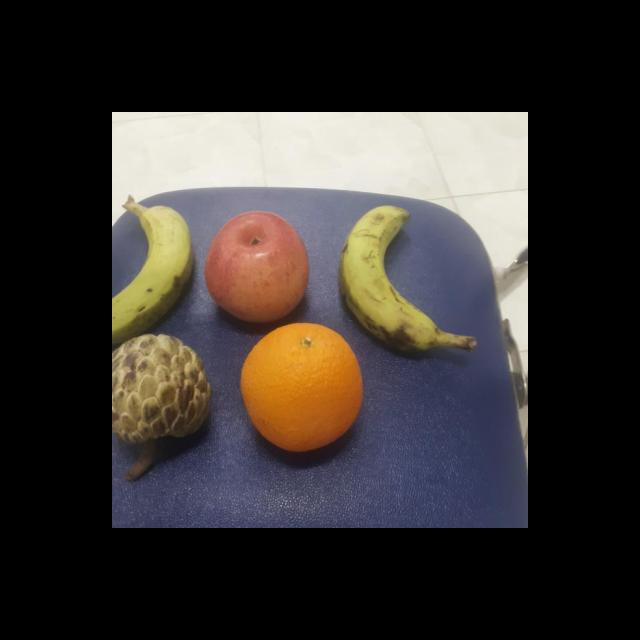Sakya fruit: (112, 329, 215, 447)
apple: (201, 208, 312, 325)
banana: (335, 203, 443, 353), (112, 198, 196, 346)
orange: (236, 321, 366, 456)
